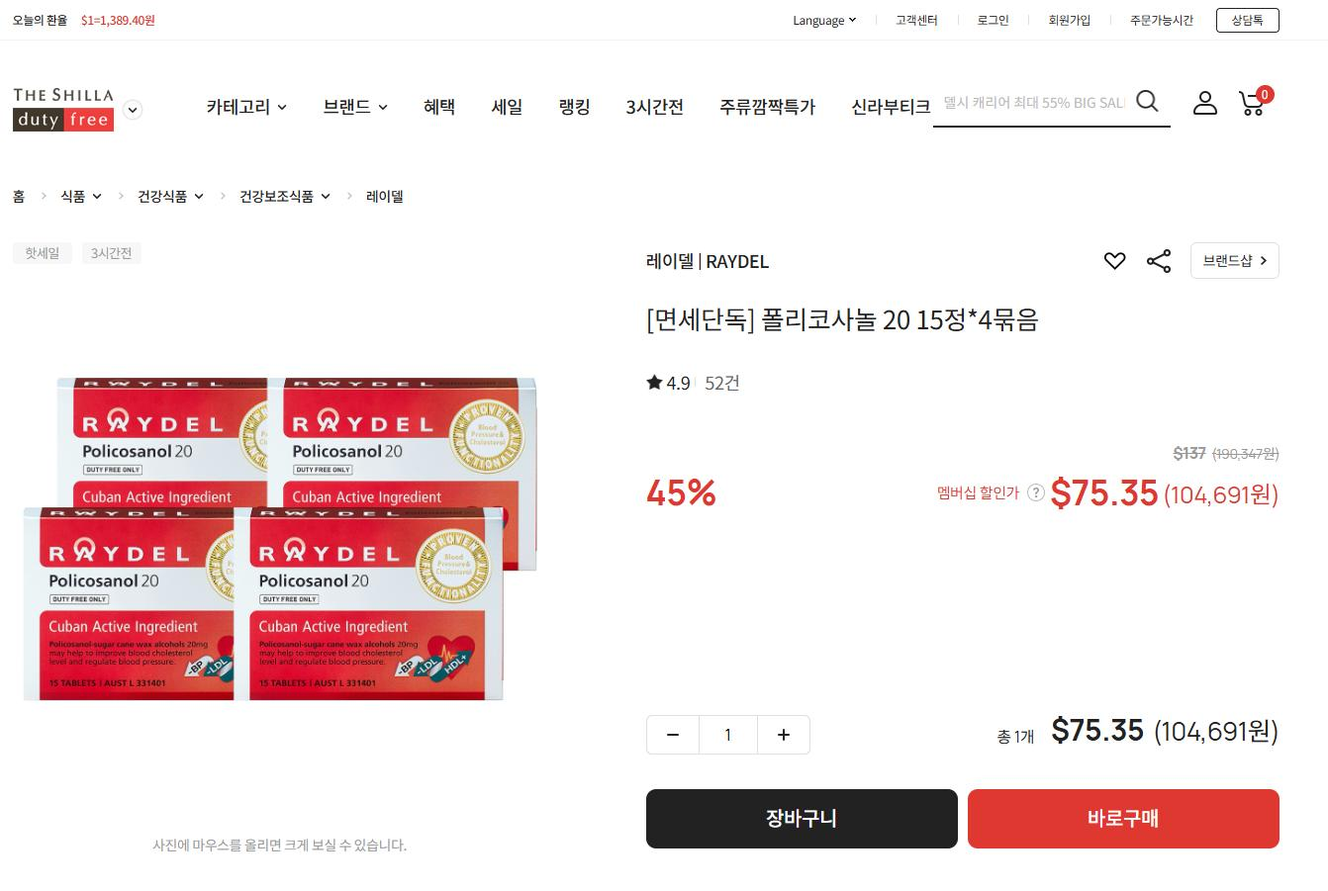button: (648, 789, 951, 853), (967, 792, 1278, 848), (641, 710, 813, 755), (846, 90, 935, 125), (710, 88, 814, 114), (1189, 241, 1278, 271), (614, 88, 700, 117), (1231, 90, 1290, 127), (417, 90, 474, 125), (487, 95, 543, 130), (550, 88, 609, 121), (1216, 0, 1284, 27), (1045, 12, 1119, 36), (957, 6, 1030, 27), (1119, 9, 1189, 30), (1189, 85, 1218, 130), (879, 14, 946, 31), (1143, 247, 1175, 273), (1105, 251, 1137, 273)
checkbox: (322, 84, 407, 130), (218, 177, 332, 210), (203, 89, 286, 122), (126, 189, 213, 208), (790, 12, 858, 30), (67, 180, 101, 209)
input_field: (935, 80, 1170, 130)
